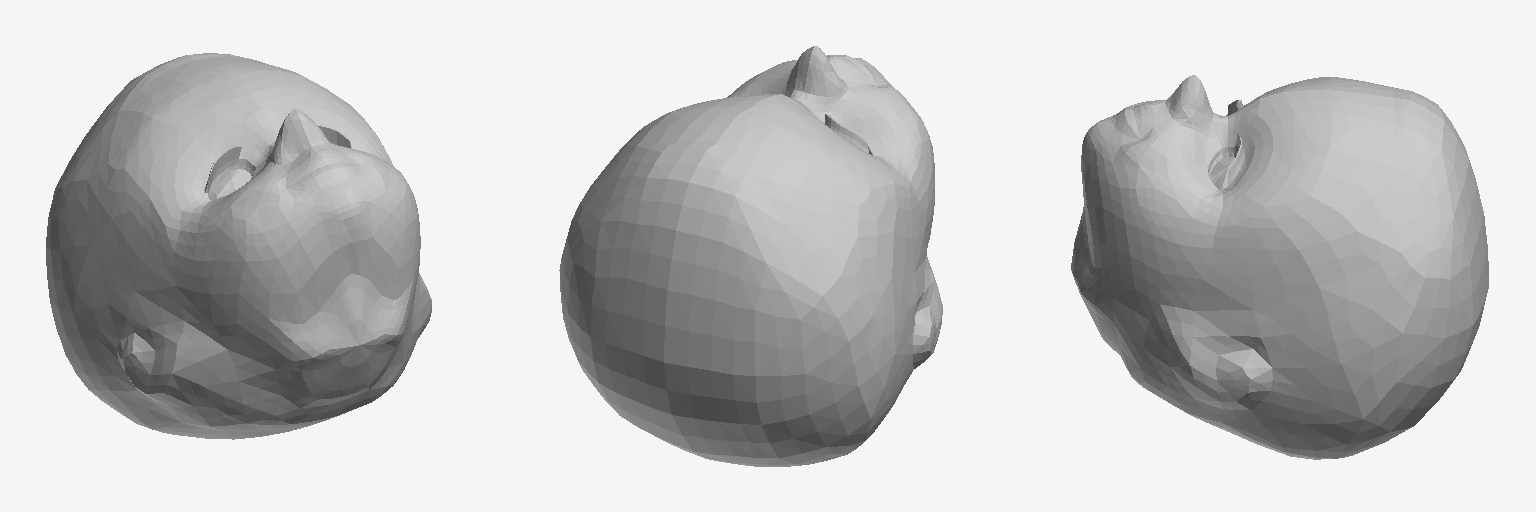
The model's file is BabyHead.obj.
3 views of the same model, side by side, from view 1: azimuth 30°, elevation 25°; view 2: azimuth 150°, elevation 25°; view 3: azimuth 270°, elevation 25° (orthographic).
Visible parts, largest first — view 1: BabyHead.001; view 2: BabyHead.001; view 3: BabyHead.001.
Part boxes in pixels (left/top/right/bottom): BabyHead.001: left=46, top=53, right=431, bottom=439; BabyHead.001: left=559, top=46, right=942, bottom=466; BabyHead.001: left=1071, top=75, right=1488, bottom=459.
Bounding box in the file's own units: 5.54 × 6.13 × 6.47.